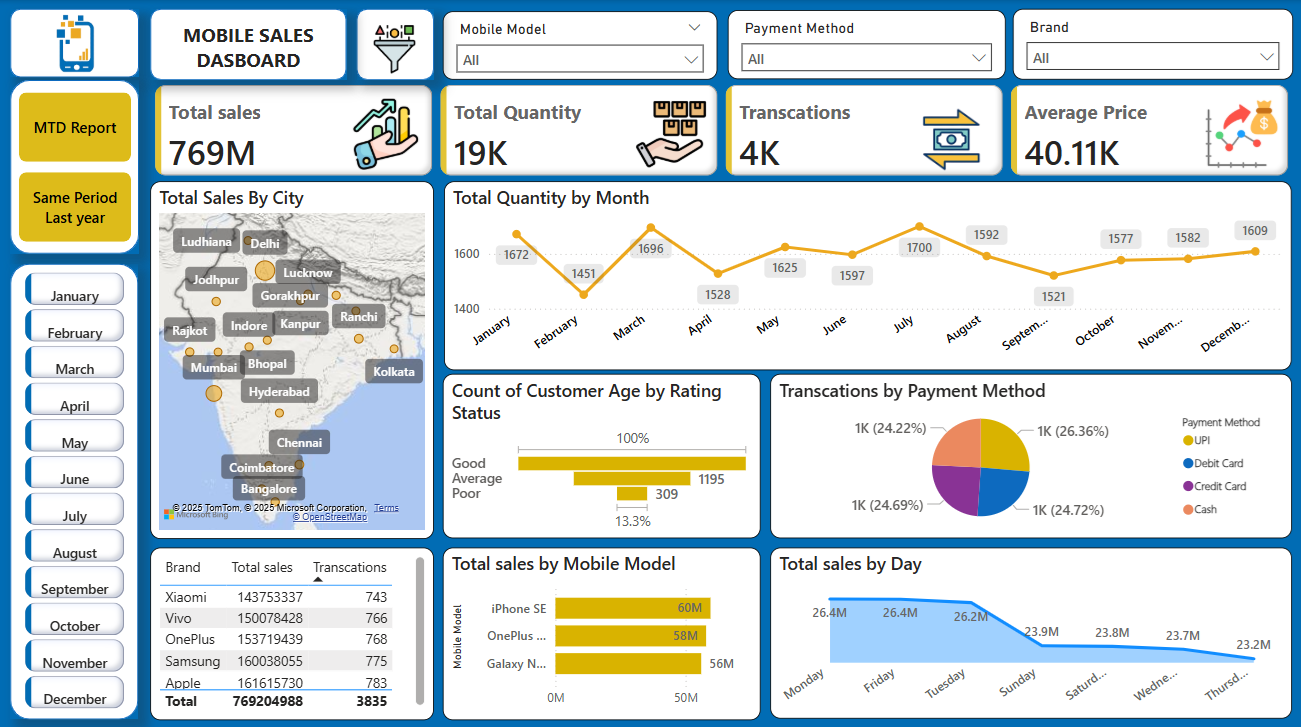

This screenshot's page, from the dashboard's own definition file:
{"tool":"powerbi","page":{"name":"Dashboard ","canvas":[1280,720],"ordinal":0},"visuals":[{"type":"shape","box":[11,8.6,126.4,67.5],"z":0},{"type":"image","box":[20.9,9.8,108,66.3],"z":1000},{"type":"shape","box":[11,78.5,126.4,170.6],"z":2000},{"type":"shape","box":[11.5,259,125.6,447.4],"z":3000},{"type":"advancedSlicerVisual","fields":{"Values":["Custom_Calendar.Date.Variation.Date Hierarchy.Month"]},"box":[20.5,262.8,107.7,441],"z":4000},{"type":"cardVisual","fields":{"Data":["Mobile_Sales_Data.Total sales","Mobile_Sales_Data.Total Quantity","Mobile_Sales_Data.Transcations","Mobile_Sales_Data.Average Price"]},"box":[148.5,78.5,1122.7,99.4],"z":5000},{"type":"slicer","fields":{"Values":["Mobile_Sales_Data.Mobile Model"]},"box":[435.6,11,269.9,67.5],"z":6000},{"type":"slicer","fields":{"Values":["Mobile_Sales_Data.Payment Method"]},"box":[715.6,10.1,272.7,67.8],"z":7000},{"type":"slicer","fields":{"Values":["Mobile_Sales_Data.Brand"]},"box":[995.5,8.7,275.6,69.3],"z":8000},{"type":"shape","box":[350.9,8.6,76.1,69.9],"z":9000},{"type":"image","box":[356.4,17.9,64.1,60.3],"z":10000},{"type":"shape","box":[148.5,8.6,192.6,69.9],"z":11000},{"type":"textbox","box":[159,15.4,170.5,60.3],"z":12000},{"type":"map","title":"Total Sales By City","fields":{"Category":["Mobile_Sales_Data.City"],"Size":["Mobile_Sales_Data.Total sales"]},"box":[148.5,177.9,278.5,350.9],"z":13000},{"type":"lineChart","fields":{"Category":["Custom_Calendar.Date.Variation.Date Hierarchy.Month"],"Y":["Mobile_Sales_Data.Total Quantity"]},"box":[436.8,177.9,831.9,185.3],"z":14000},{"type":"funnel","fields":{"Y":["CountNonNull(Mobile_Sales_Data.Customer Age)"],"Category":["Mobile_Sales_Data.Rating Status"]},"box":[435.6,366.9,311.7,162],"z":15000},{"type":"pieChart","fields":{"Category":["Mobile_Sales_Data.Payment Method"],"Y":["Mobile_Sales_Data.Transcations"]},"box":[757.1,366.9,511.7,162],"z":16000},{"type":"barChart","fields":{"Y":["Mobile_Sales_Data.Total sales"],"Category":["Mobile_Sales_Data.Mobile Model"]},"box":[435.6,537.4,311.7,169.3],"z":17000},{"type":"areaChart","title":"Total sales by Day ","fields":{"Y":["Mobile_Sales_Data.Total sales"],"Category":["Custom_Calendar.Day Name"]},"box":[757.1,537.4,511.7,168.1],"z":18000},{"type":"tableEx","fields":{"Values":["Mobile_Sales_Data.Brand","Mobile_Sales_Data.Total sales","Mobile_Sales_Data.Transcations"]},"box":[148.5,537.4,278.5,169.3],"z":19000},{"type":"pageNavigator","box":[19.6,90.8,110.4,147.2],"z":19001}]}

Visuals, with their boxes in screenshot pixels (x1, y1, x2, y2), scaled from the page's 1280x720 canvas onto the 1301x727 screenshot:
shape: bbox=(11, 9, 140, 77)
image: bbox=(21, 10, 131, 77)
shape: bbox=(11, 79, 140, 252)
shape: bbox=(12, 262, 139, 713)
advancedSlicerVisual - Custom_Calendar.Date.Variation.Date Hierarchy.Month: bbox=(21, 265, 130, 711)
cardVisual - Mobile_Sales_Data.Total sales x Mobile_Sales_Data.Total Quantity: bbox=(151, 79, 1292, 180)
slicer - Mobile_Sales_Data.Mobile Model: bbox=(443, 11, 717, 79)
slicer - Mobile_Sales_Data.Payment Method: bbox=(727, 10, 1005, 79)
slicer - Mobile_Sales_Data.Brand: bbox=(1012, 9, 1292, 79)
shape: bbox=(357, 9, 434, 79)
image: bbox=(362, 18, 427, 79)
shape: bbox=(151, 9, 347, 79)
textbox: bbox=(162, 16, 335, 76)
"Total Sales By City" map: bbox=(151, 180, 434, 534)
lineChart - Custom_Calendar.Date.Variation.Date Hierarchy.Month x Mobile_Sales_Data.Total Quantity: bbox=(444, 180, 1290, 367)
funnel - CountNonNull(Mobile_Sales_Data.Customer Age) x Mobile_Sales_Data.Rating Status: bbox=(443, 370, 760, 534)
pieChart - Mobile_Sales_Data.Payment Method x Mobile_Sales_Data.Transcations: bbox=(770, 370, 1290, 534)
barChart - Mobile_Sales_Data.Total sales x Mobile_Sales_Data.Mobile Model: bbox=(443, 543, 760, 714)
"Total sales by Day " areaChart: bbox=(770, 543, 1290, 712)
tableEx - Mobile_Sales_Data.Brand x Mobile_Sales_Data.Total sales: bbox=(151, 543, 434, 714)
pageNavigator: bbox=(20, 92, 132, 240)
